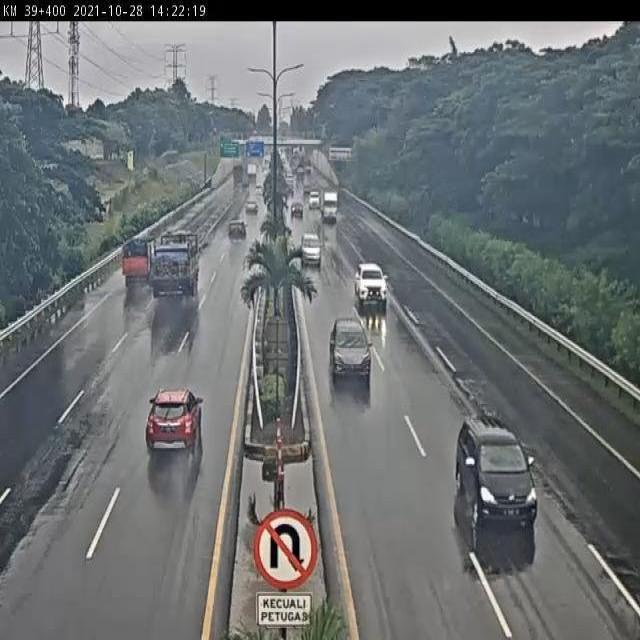car: (451, 423, 540, 532), (140, 387, 205, 459), (328, 312, 371, 375), (350, 259, 389, 305), (298, 230, 323, 266), (227, 216, 249, 244), (289, 199, 306, 221), (246, 196, 261, 219)
truck: (146, 231, 201, 303), (121, 234, 157, 290), (317, 191, 338, 224)
